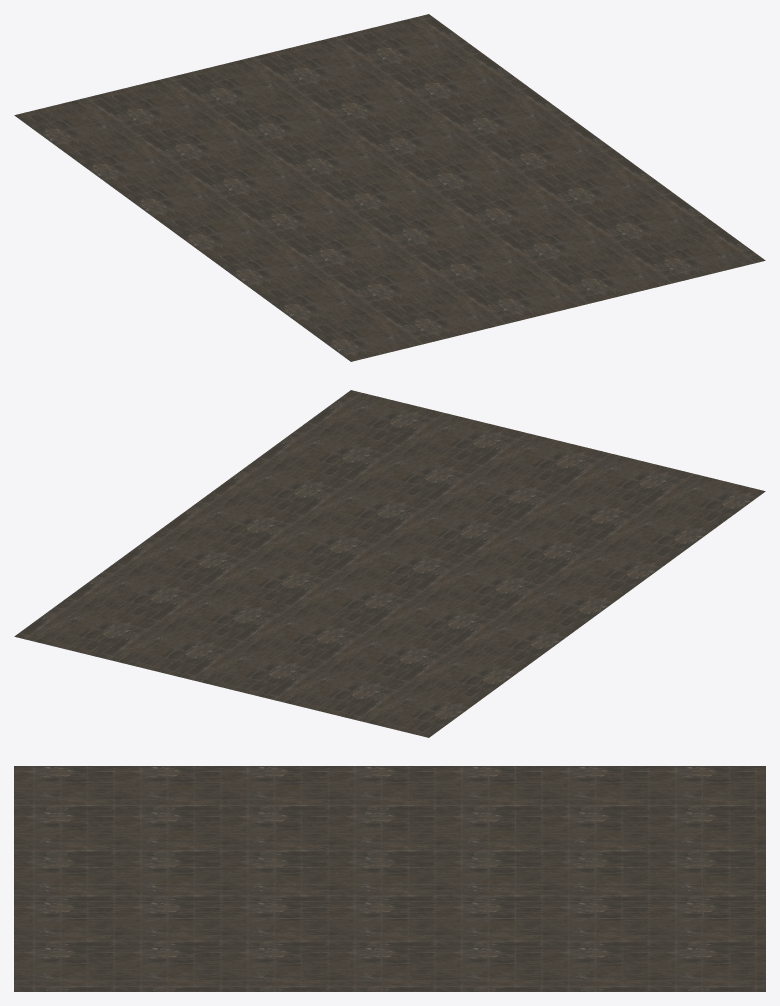
File: SM_Floor.fbx
The picture shows the model from 3 angles, top to bottom: view 1: azimuth 30°, elevation 25°; view 2: azimuth 150°, elevation 25°; view 3: azimuth 270°, elevation 25°; orthographic projection. The views are drawn at different scales.
Visible parts, largest first — view 1: SM_Floor_LOD0; view 2: SM_Floor_LOD0; view 3: SM_Floor_LOD0.
Part boxes in pixels (x1,y1,x2,y2): SM_Floor_LOD0: (14,14,765,361); SM_Floor_LOD0: (14,390,765,737); SM_Floor_LOD0: (14,766,765,991).
Bounding box in the file's own units: 1000 × 1406 × 2.48e-05.
1 material, 1 textured.
